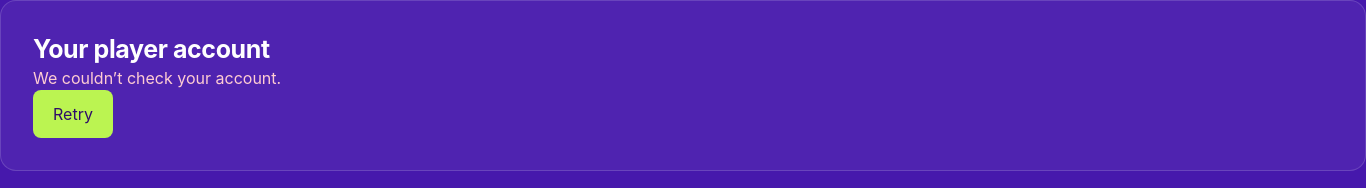
Test: account panel › does not pretend the user is a guest when the server is unavailable
Check: the message reads "We couldn’t check your account.", box [33,68,281,88]
Click the button "Retry".
click(73, 114)  # box [33,90,113,138]
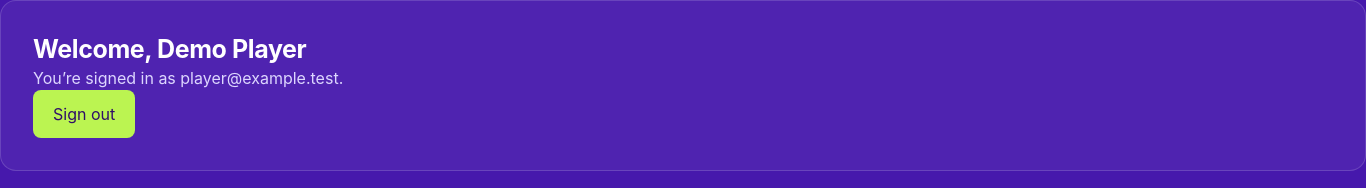
Check: the heading "Welcome, Demo Player" is shown, box [33,34,306,64]
